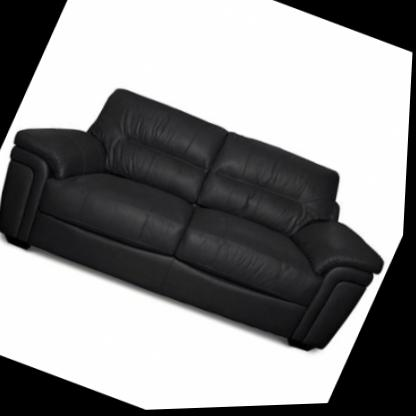Sofa: (0, 49, 414, 380)
